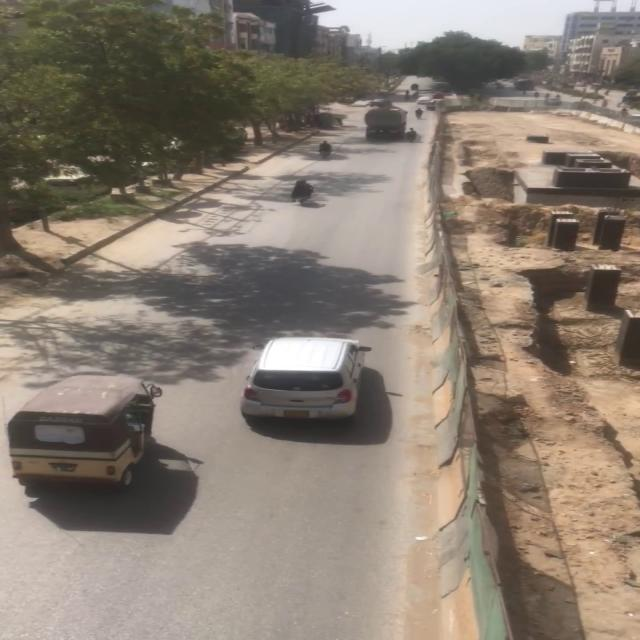car: (235, 329, 382, 436)
motorbike: (282, 174, 324, 208), (315, 139, 339, 160), (404, 127, 420, 144)
truck: (362, 105, 408, 140)
